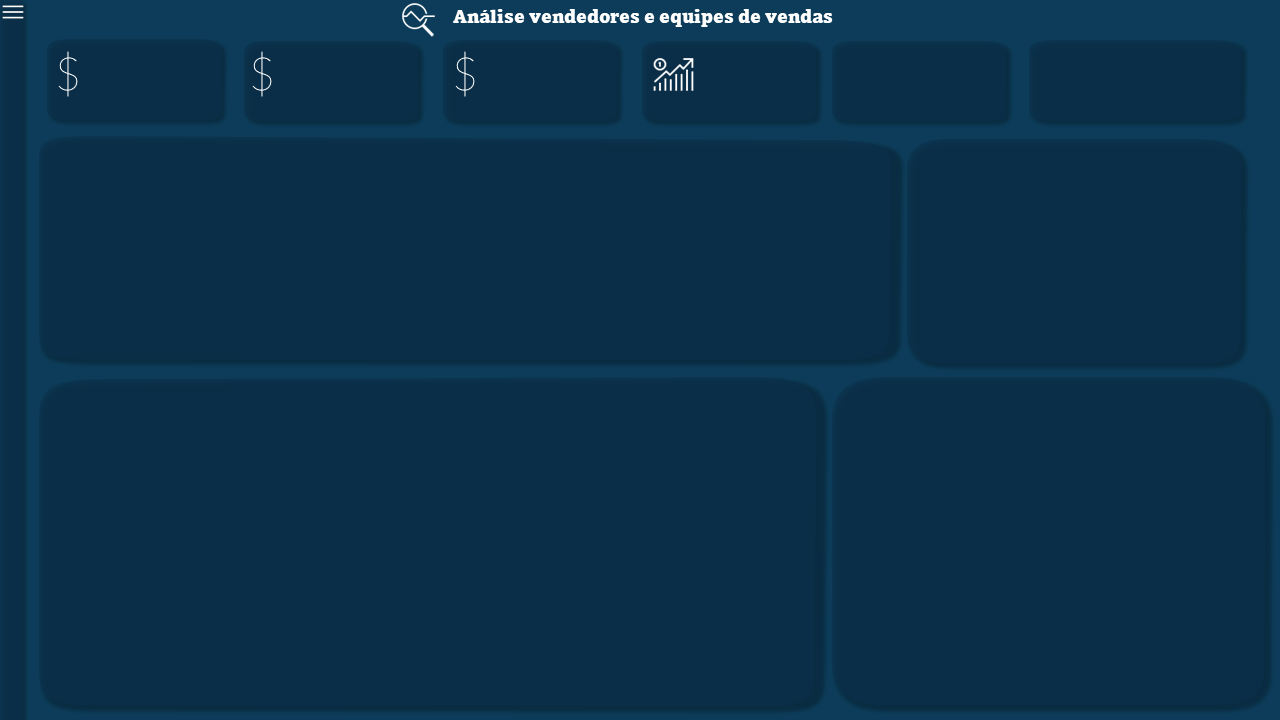

Layout of this report page (visuals, bound fields, positions):
{"tool":"powerbi","page":{"name":"Dash_vendedores_equipes","canvas":[1280,720],"ordinal":1},"visuals":[{"type":"tableEx","title":"Ranking por média de margem vendida","fields":{"Values":["Dim_vendedores.Vendedor","Medidas.Faturamento","Avg(Fato_vendas.Margem)","Sum(Fato_vendas.Comissão_vendas)"]},"box":[63.9,376.3,455.9,337.7],"z":0},{"type":"pieChart","title":"Média de margem sobre vendas anual  por equipe","fields":{"Category":["Dim_vendedores.Equipe_Vendas"],"Y":["Avg(Fato_vendas.Margem)"]},"box":[525.8,392,266.5,305.1],"z":1000},{"type":"card","fields":{"Values":["Medidas.Faturamento"]},"box":[278.6,38.6,141.1,84.4],"z":2000},{"type":"card","fields":{"Values":["Medidas.Lucro"]},"box":[480,37.4,137.5,85.6],"z":3000},{"type":"card","fields":{"Values":["Medidas.Volume_vendas"]},"box":[669.3,36.2,152,84.4],"z":4000},{"type":"card","fields":{"Values":["Min(Dim_produtos.Grupo_Produto)"]},"box":[1026.3,38.6,221.9,84.4],"z":5000},{"type":"card","fields":{"Values":["Medidas.Comissao_vendas"]},"box":[80.8,36.2,145.9,84.4],"z":6000},{"type":"areaChart","title":"Faturamento mensal ","fields":{"Category":["Tb_calendario.Date.Variation.Hierarquia de datas.Mês"],"Y":["Medidas.Faturamento"]},"box":[63.9,141.1,831,218.3],"z":7000},{"type":"clusteredBarChart","title":"Faturamento por Equipe","fields":{"Y":["Medidas.Faturamento"],"Category":["Dim_vendedores.Equipe_Vendas"]},"box":[908.1,141.1,340.1,219.5],"z":8000},{"type":"kpi","title":"Média de margem sobre venda mensal","fields":{"Indicator":["Avg(Fato_vendas.Margem)"],"Goal":["Medidas.Condicao_margem_produto"],"TrendLine":["Tb_calendario.Date.Variation.Hierarquia de datas.Mês"]},"box":[838.2,38.6,162.8,79.6],"z":9000},{"type":"clusteredColumnChart","title":"Volume de venda (Qtd)","fields":{"Category":["Tb_calendario.Date.Variation.Hierarquia de datas.Mês"],"Y":["Medidas.Volume_vendas"]},"box":[838.2,376.3,430.6,337.7],"z":10000},{"type":"actionButton","box":[0,0,27.7,21.7],"z":12000},{"type":"actionButton","box":[1249.4,0,30.2,25.3],"z":13000},{"type":"actionButton","box":[54.3,0,26.5,25.3],"z":14000}]}

Visuals, with their boxes in screenshot pixels (x1, y1, x2, y2), scaled from the page's 1280x720 canvas onto the 1280x720 screenshot:
"Ranking por média de margem vendida" tableEx: BBox(64, 376, 520, 714)
"Média de margem sobre vendas anual  por equipe" pieChart: BBox(526, 392, 792, 697)
card - Medidas.Faturamento: BBox(279, 39, 420, 123)
card - Medidas.Lucro: BBox(480, 37, 618, 123)
card - Medidas.Volume_vendas: BBox(669, 36, 821, 121)
card - Min(Dim_produtos.Grupo_Produto): BBox(1026, 39, 1248, 123)
card - Medidas.Comissao_vendas: BBox(81, 36, 227, 121)
"Faturamento mensal " areaChart: BBox(64, 141, 895, 359)
"Faturamento por Equipe" clusteredBarChart: BBox(908, 141, 1248, 361)
"Média de margem sobre venda mensal" kpi: BBox(838, 39, 1001, 118)
"Volume de venda (Qtd)" clusteredColumnChart: BBox(838, 376, 1269, 714)
actionButton: BBox(0, 0, 28, 22)
actionButton: BBox(1249, 0, 1279, 25)
actionButton: BBox(54, 0, 81, 25)
